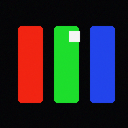1 square: (69, 31, 79, 41)
